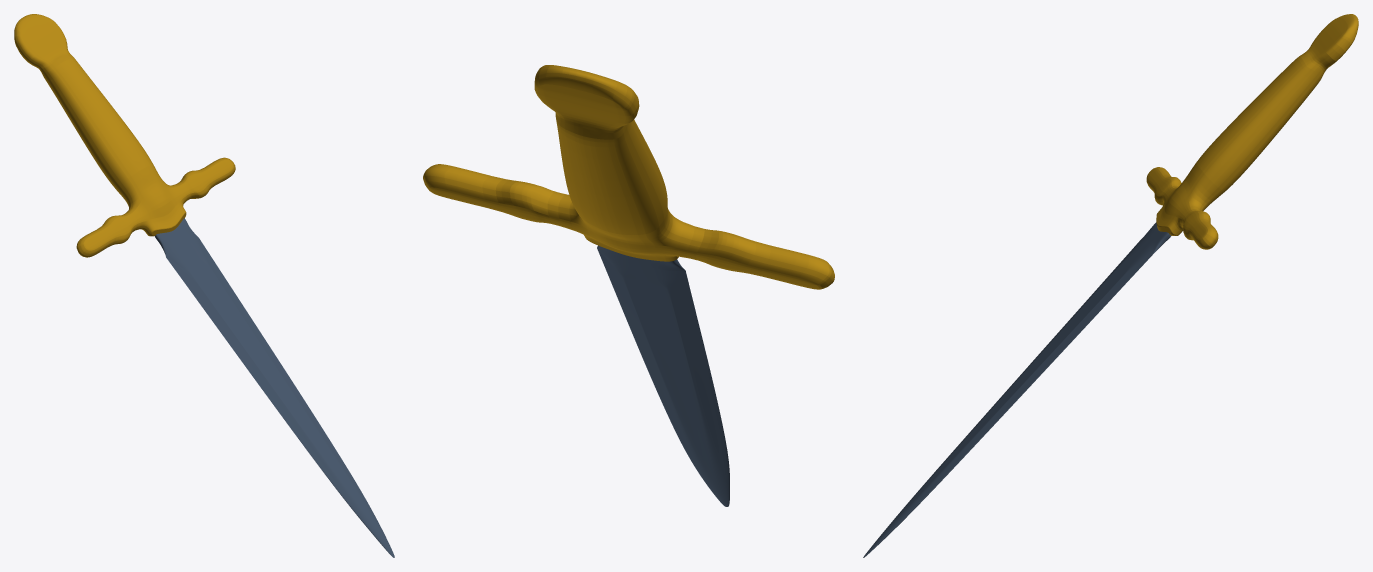
The model's file is Dagger.dae.
3 renders of one model, left to right at view 1: azimuth 30°, elevation 25°; view 2: azimuth 150°, elevation 25°; view 3: azimuth 270°, elevation 25°, orthographic. The views are drawn at different scales.
Parts seen in each view (by area): view 1: polySurface6, polySurface5; view 2: polySurface6, polySurface5; view 3: polySurface6, polySurface5.
Boxes of the visible parts, x1,y1,x2,y2 form: polySurface6: (14, 14, 235, 257); polySurface5: (154, 218, 394, 557); polySurface6: (423, 65, 834, 289); polySurface5: (597, 245, 729, 506); polySurface6: (1146, 14, 1358, 249); polySurface5: (863, 222, 1171, 557).
Size of the model in its own units: 5.08 by 10.87 by 10.56.
